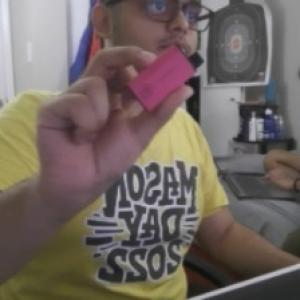Blume-E-Ciggirate: (127, 41, 205, 115)
